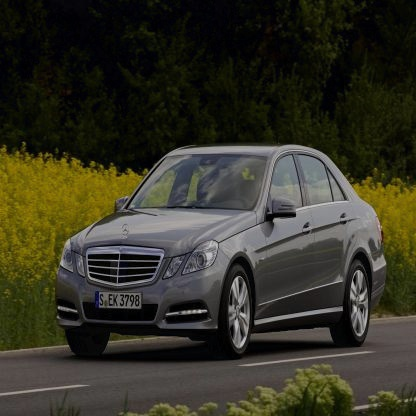Vehicle: (53, 144, 388, 361)
